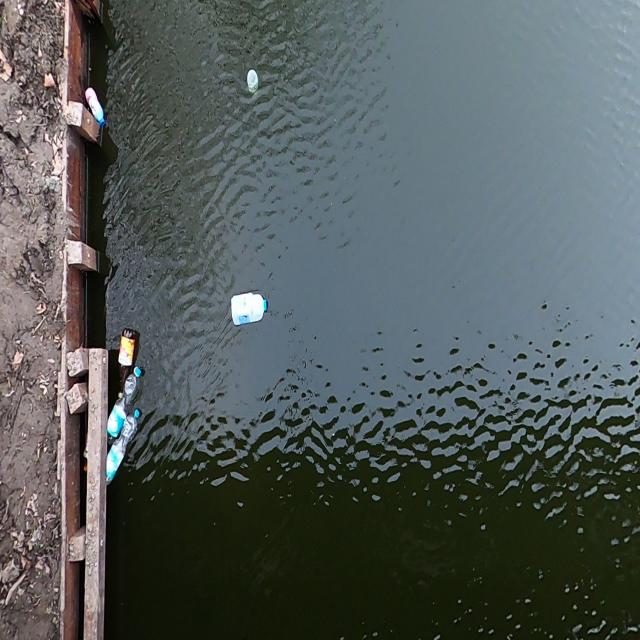Bouteille plastique: (106, 400, 147, 501), (104, 357, 145, 452), (112, 317, 143, 405), (227, 278, 272, 331), (85, 83, 106, 127)
